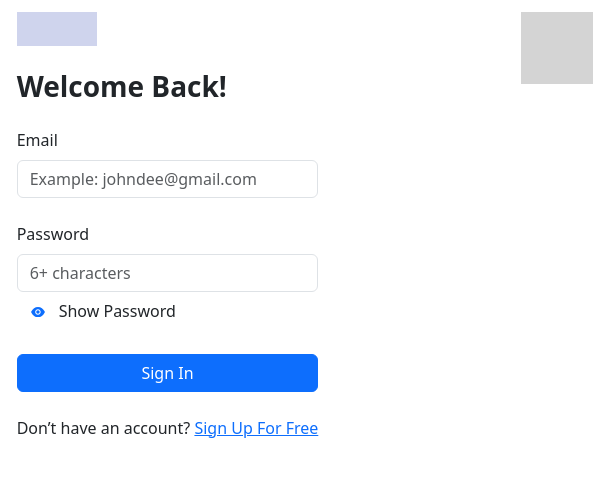
Test: LoginPage Component › Should display error message on failed login attempt
Click the button "Sign In" at [168, 373], box [17,354,318,392]
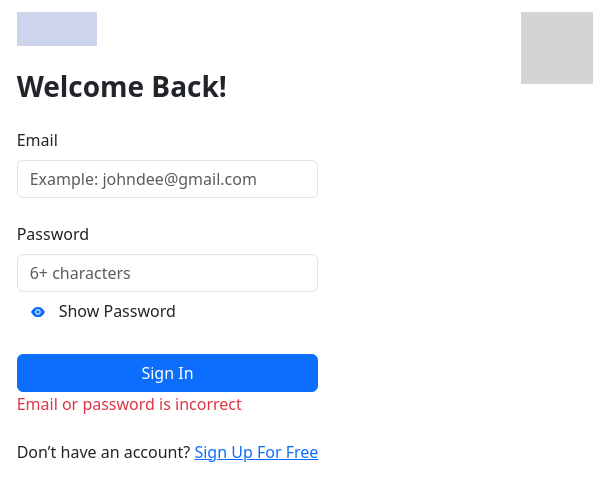
Check: the text "Email or password is incorrect" is shown, box [17,393,242,415]
